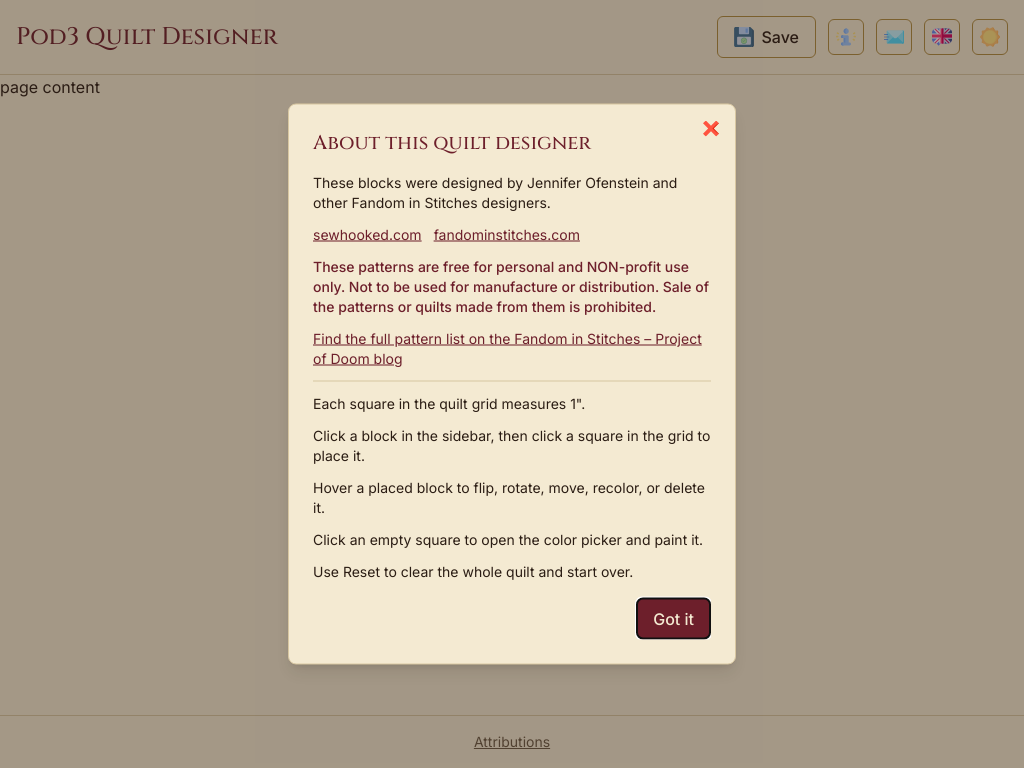
Test: Layout › reopens the info dialog from the Info button after closing it
Click the button "Got it" at [674, 618], box [636,598,711,640]
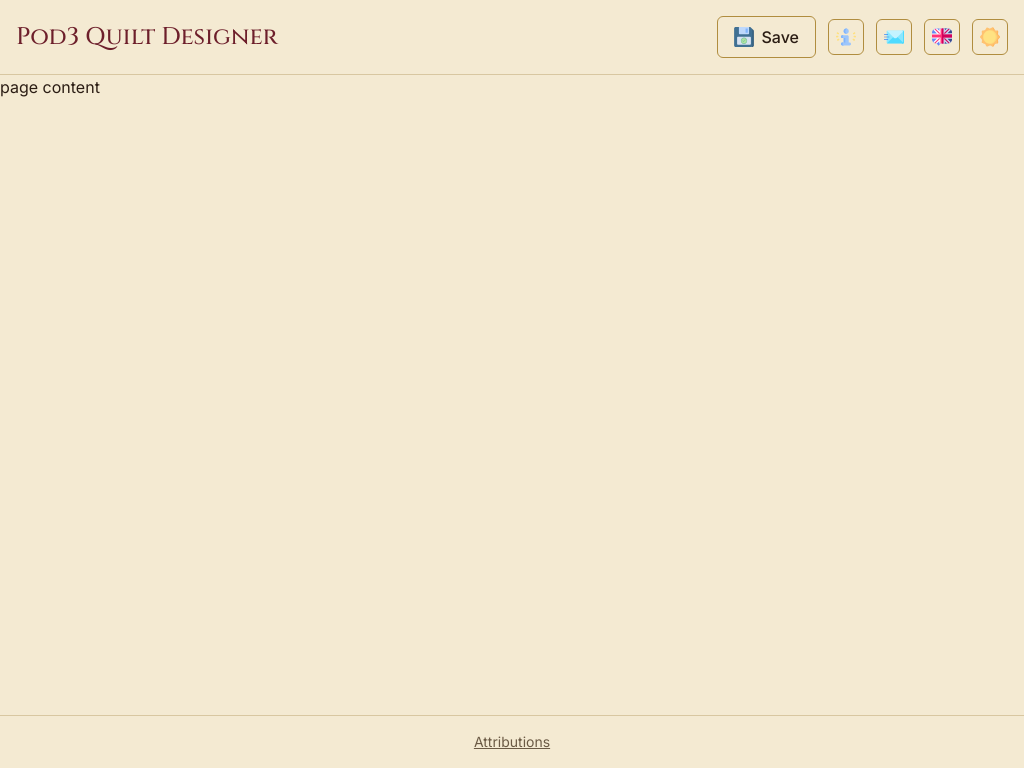
Now the dialog is gone
Click the button named "Info" at [846, 37], box [828,19,864,55]
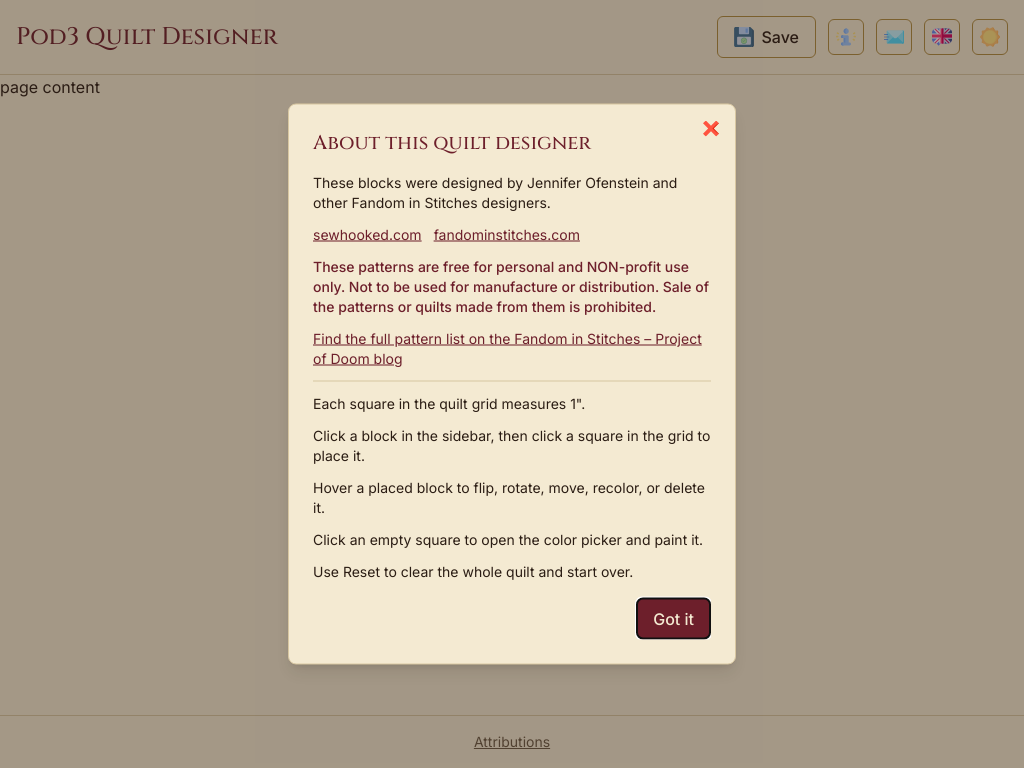
Now the dialog is shown, box [288,104,736,664]
Now the heading "About this quilt designer" is shown, box [313,128,591,156]
